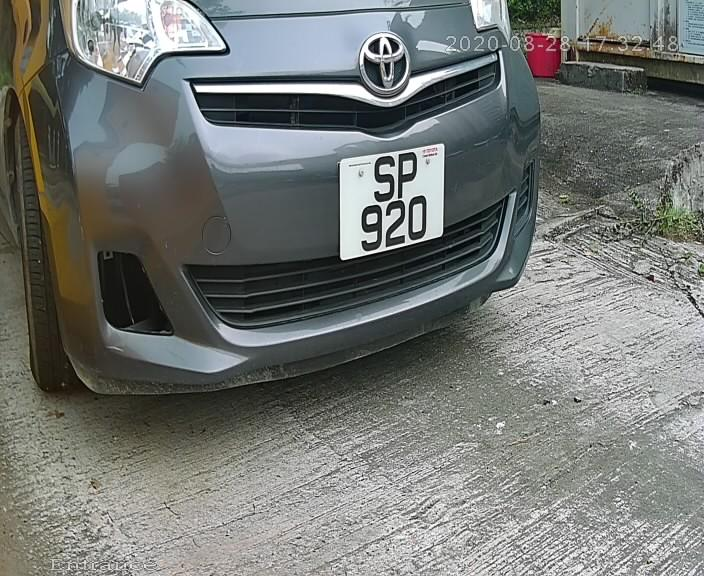License Plate: (327, 137, 459, 268)
